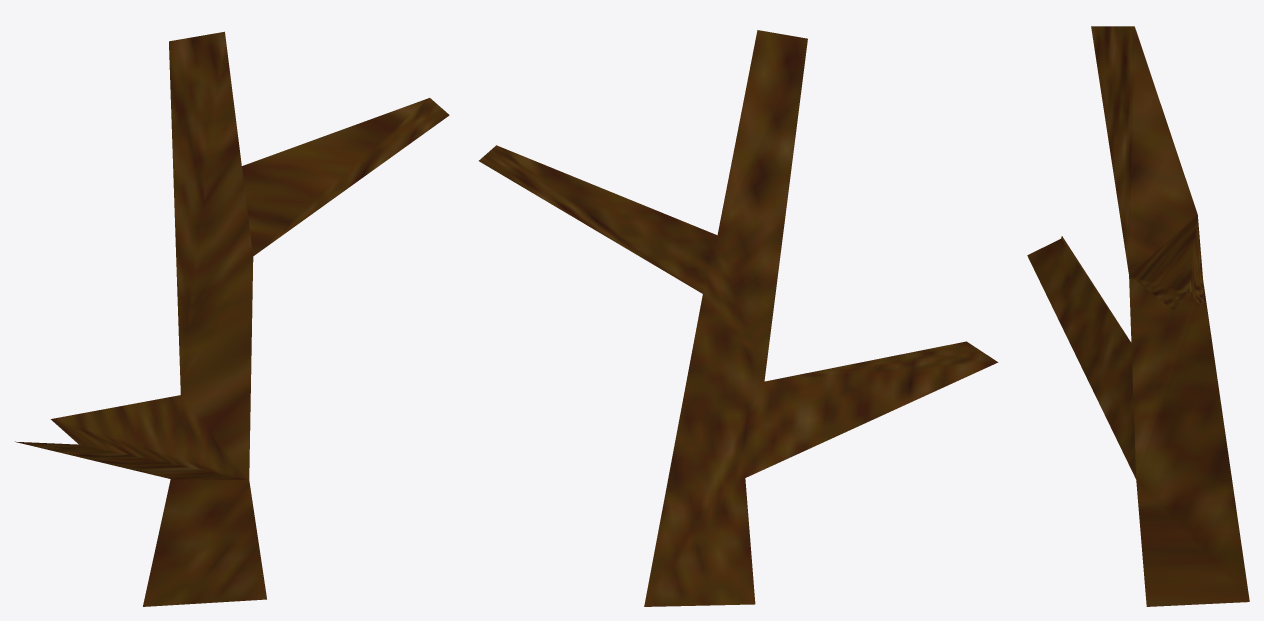
File: treebranch07.glb
The picture shows the model from 3 angles, left to right: view 1: azimuth 30°, elevation 25°; view 2: azimuth 150°, elevation 25°; view 3: azimuth 270°, elevation 25°; orthographic projection. The views are drawn at different scales.
Parts seen in each view (by area): view 1: treebranch07; view 2: treebranch07; view 3: treebranch07.
Boxes of the visible parts, box(x1,y1,x2,y2) form: treebranch07: box(15, 31, 449, 606); treebranch07: box(479, 30, 998, 606); treebranch07: box(1027, 26, 1249, 606).
Bounding box in the file's own units: 559 × 652 × 240.
Materials: 1 (1 with a texture image).
